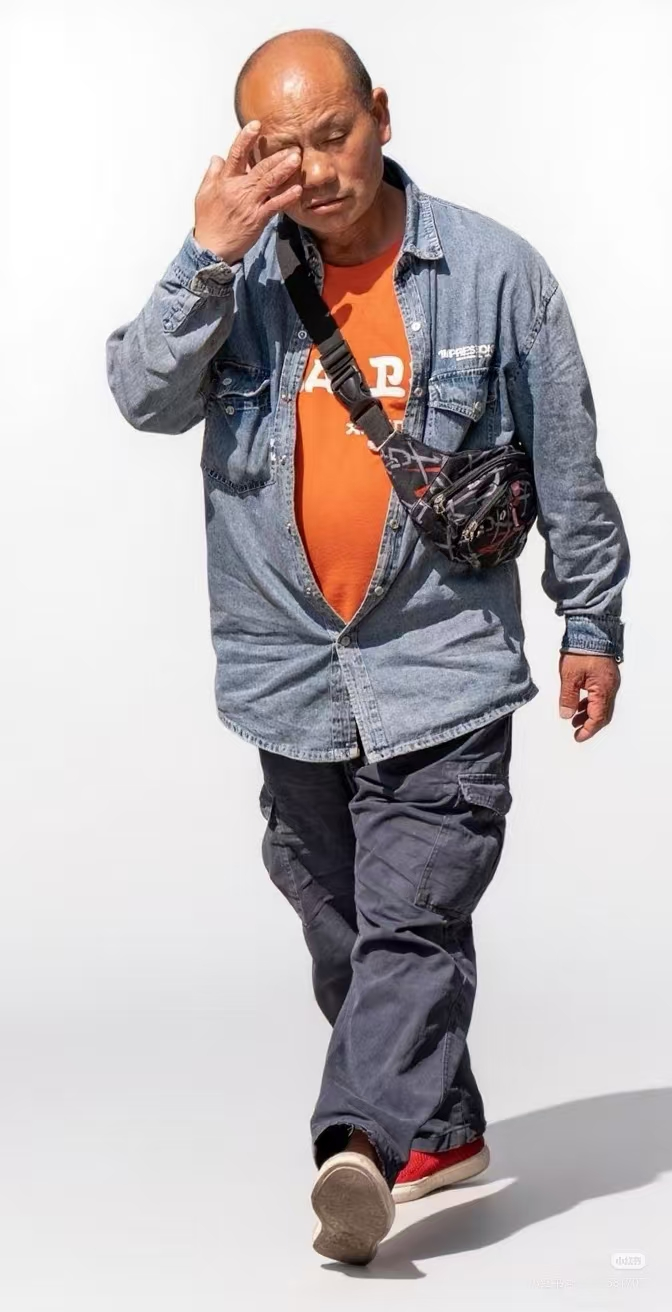up: (76, 20, 645, 1284)
